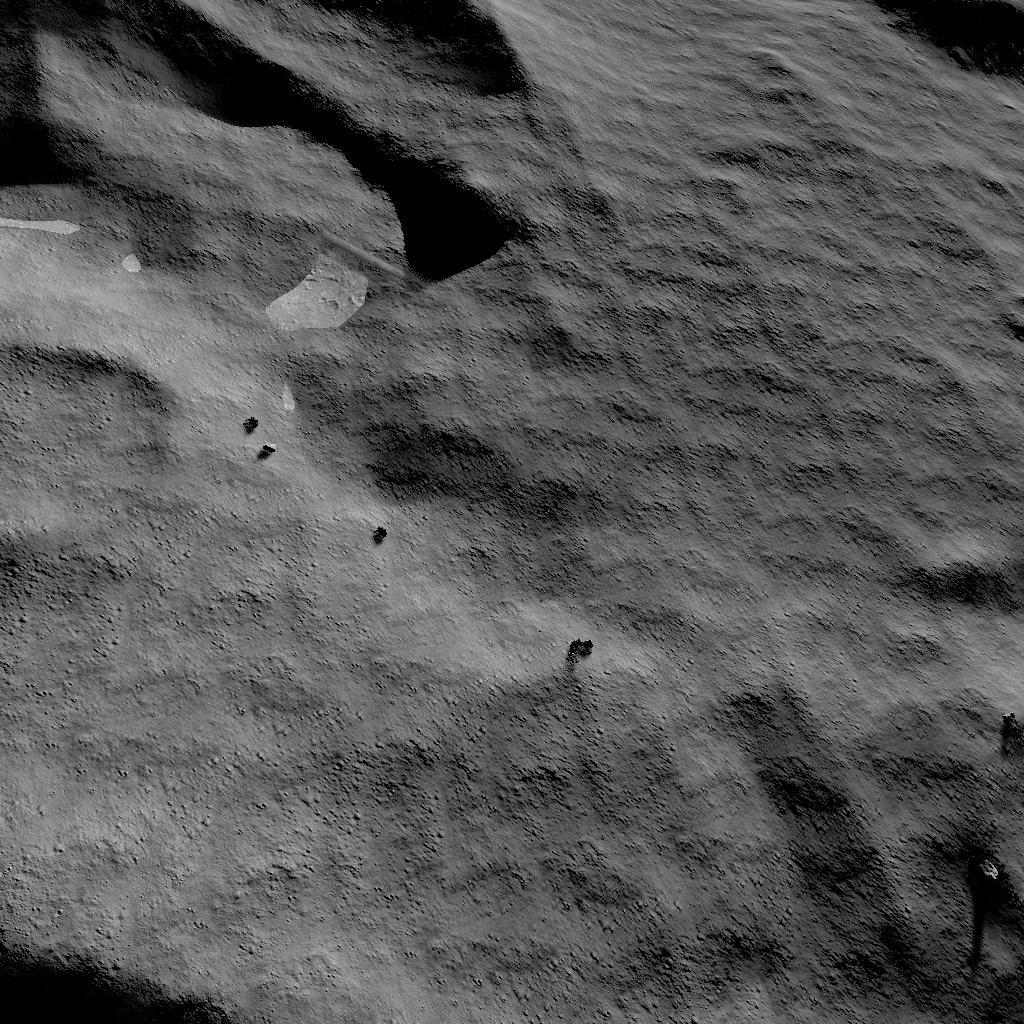Crater: (0, 0, 552, 311), (0, 340, 175, 588), (883, 0, 1024, 108)
Plan surface: (603, 148, 943, 1024), (0, 600, 554, 972)
